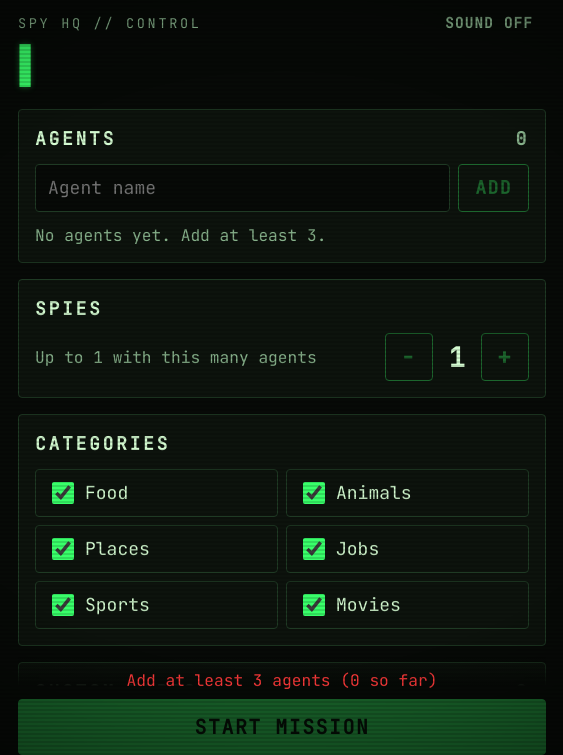
Scenario: spy counter is limited by the number of agents
The image size is (563, 755).
Type "Ana" into the field labelled "Agent name" at point(243, 188), box [35,164,450,212]
Then press Enter
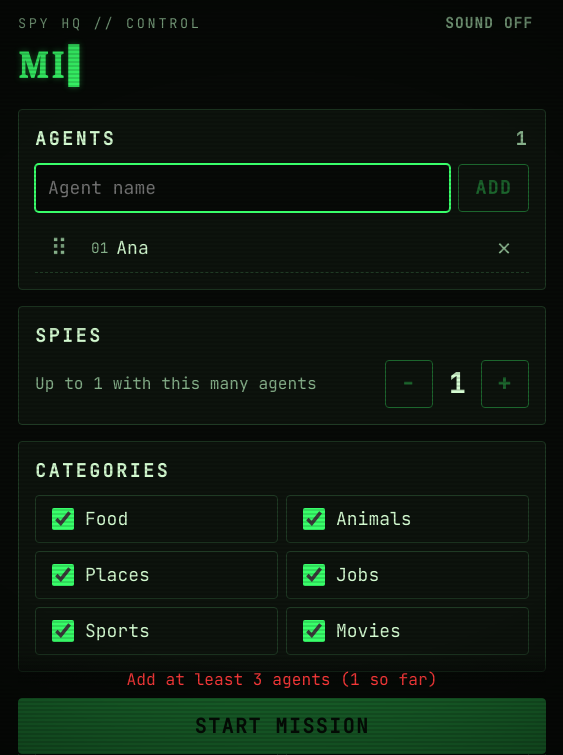
Type "Ben" into the field labelled "Agent name" at point(243, 188), box [35,164,450,212]
Then press Enter
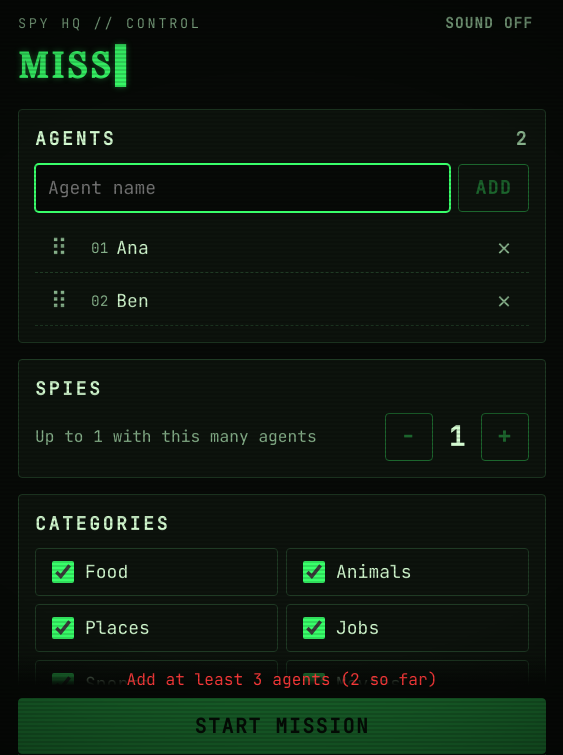
Type "Cal" into the field labelled "Agent name" at point(243, 188), box [35,164,450,212]
Then press Enter
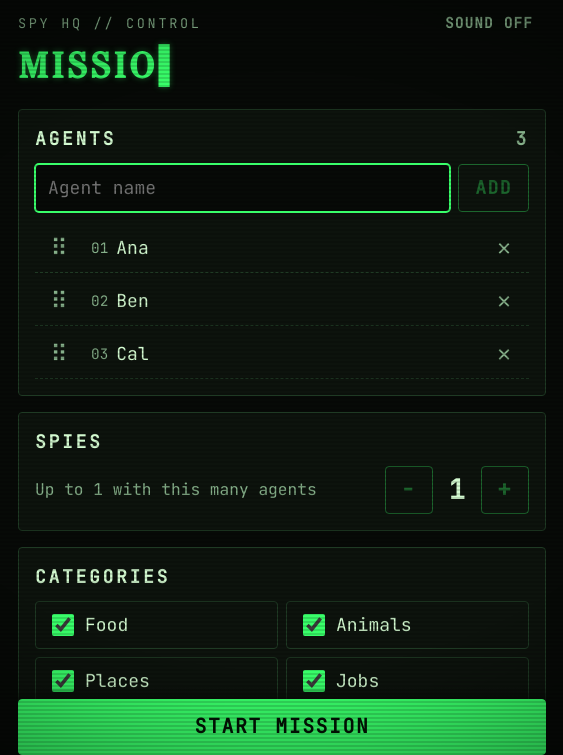
Type "Dee" into the field labelled "Agent name" at point(243, 188), box [35,164,450,212]
Then press Enter
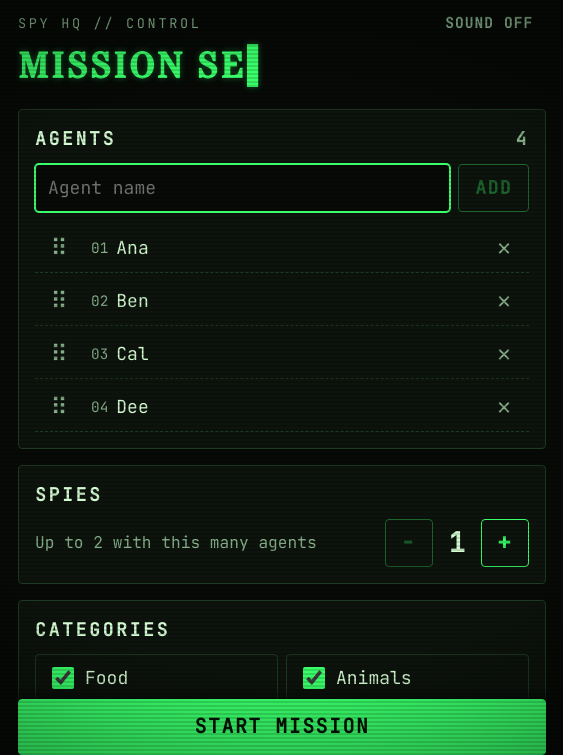
Click the button named "More spies" at point(505, 543), box [481,519,529,567]
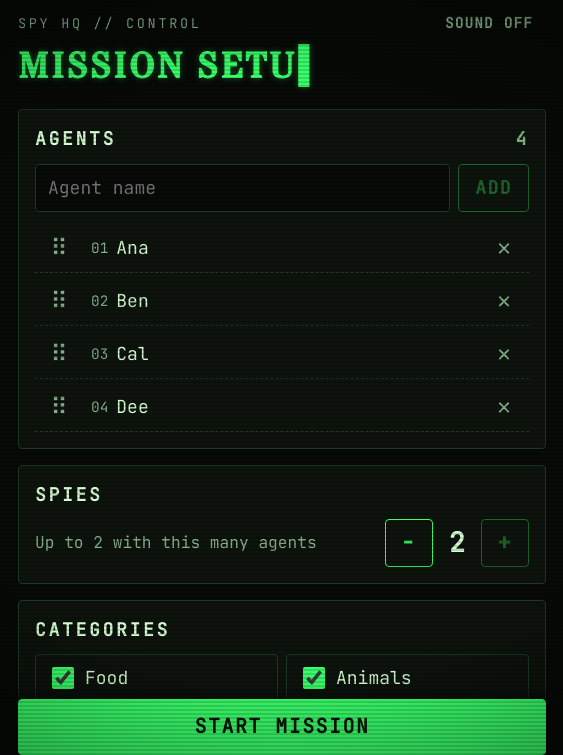
expect the button named "More spies" is disabled: met, box [481,519,529,567]
expect the text named "Spies" reads "2": met, box [449,524,465,560]
Click the button named "Remove Dee" at point(505, 407), box [481,383,529,431]
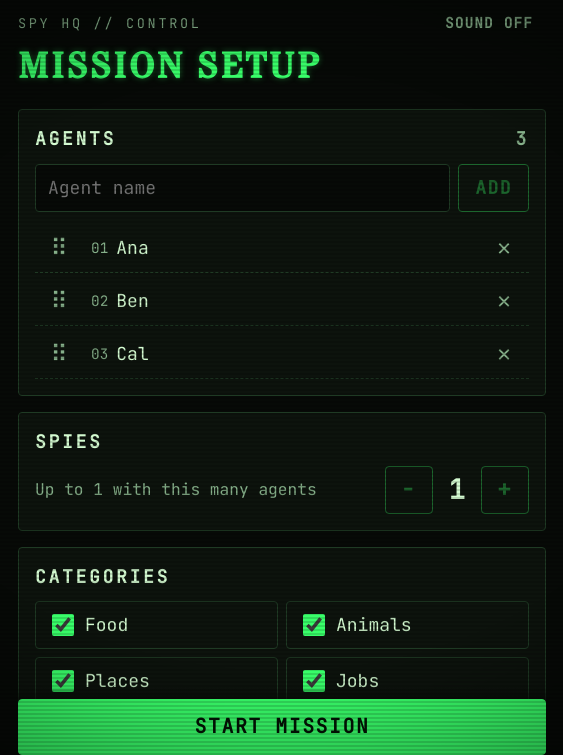
expect the text named "Spies" reads "1": met, box [449,471,465,507]
